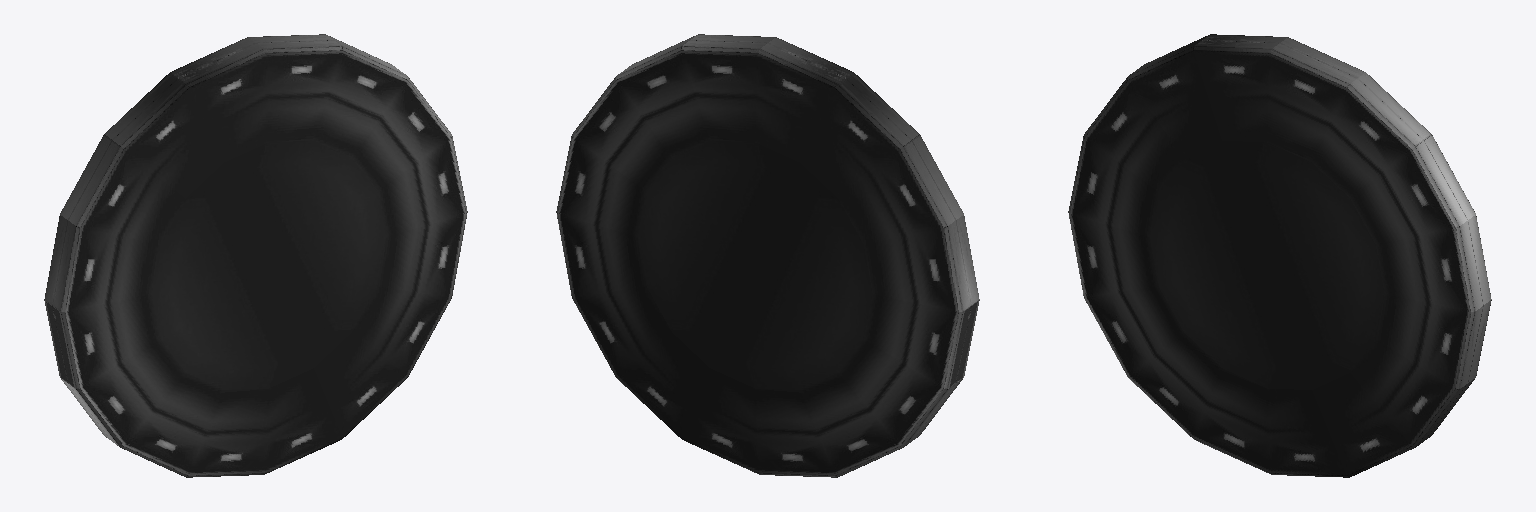
The picture shows the model from 3 angles: view 1: azimuth 30°, elevation 25°; view 2: azimuth 150°, elevation 25°; view 3: azimuth 330°, elevation 25°; orthographic projection.
Visible parts, largest first — view 1: realgamechip; view 2: realgamechip; view 3: realgamechip.
Boxes of the visible parts, <box> form: realgamechip: <box>44,34,467,477</box>; realgamechip: <box>556,34,979,477</box>; realgamechip: <box>1068,34,1491,477</box>.
Bounding box in the file's own units: 24 × 24 × 2.64.
Materials: 1 (1 with a texture image).